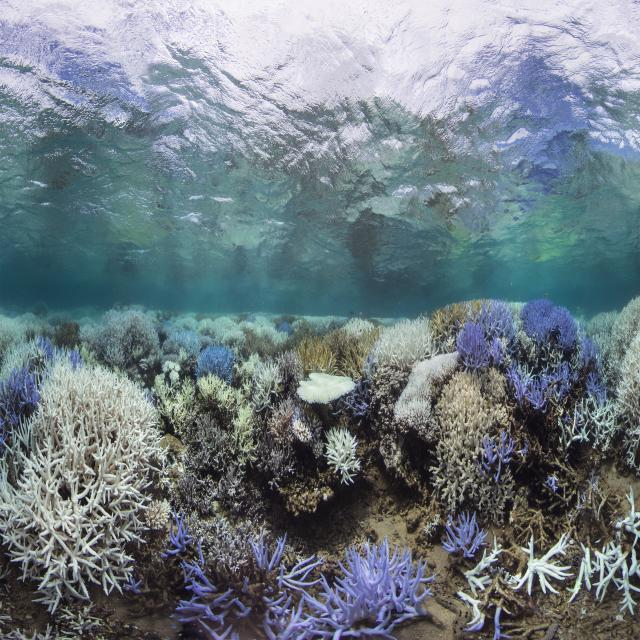Bleached Coral: (6, 321, 169, 621), (6, 363, 162, 601), (515, 537, 639, 625), (396, 349, 469, 430), (296, 351, 355, 409), (461, 537, 491, 632), (327, 430, 368, 493), (375, 315, 427, 360), (234, 399, 260, 460), (201, 372, 238, 411)
